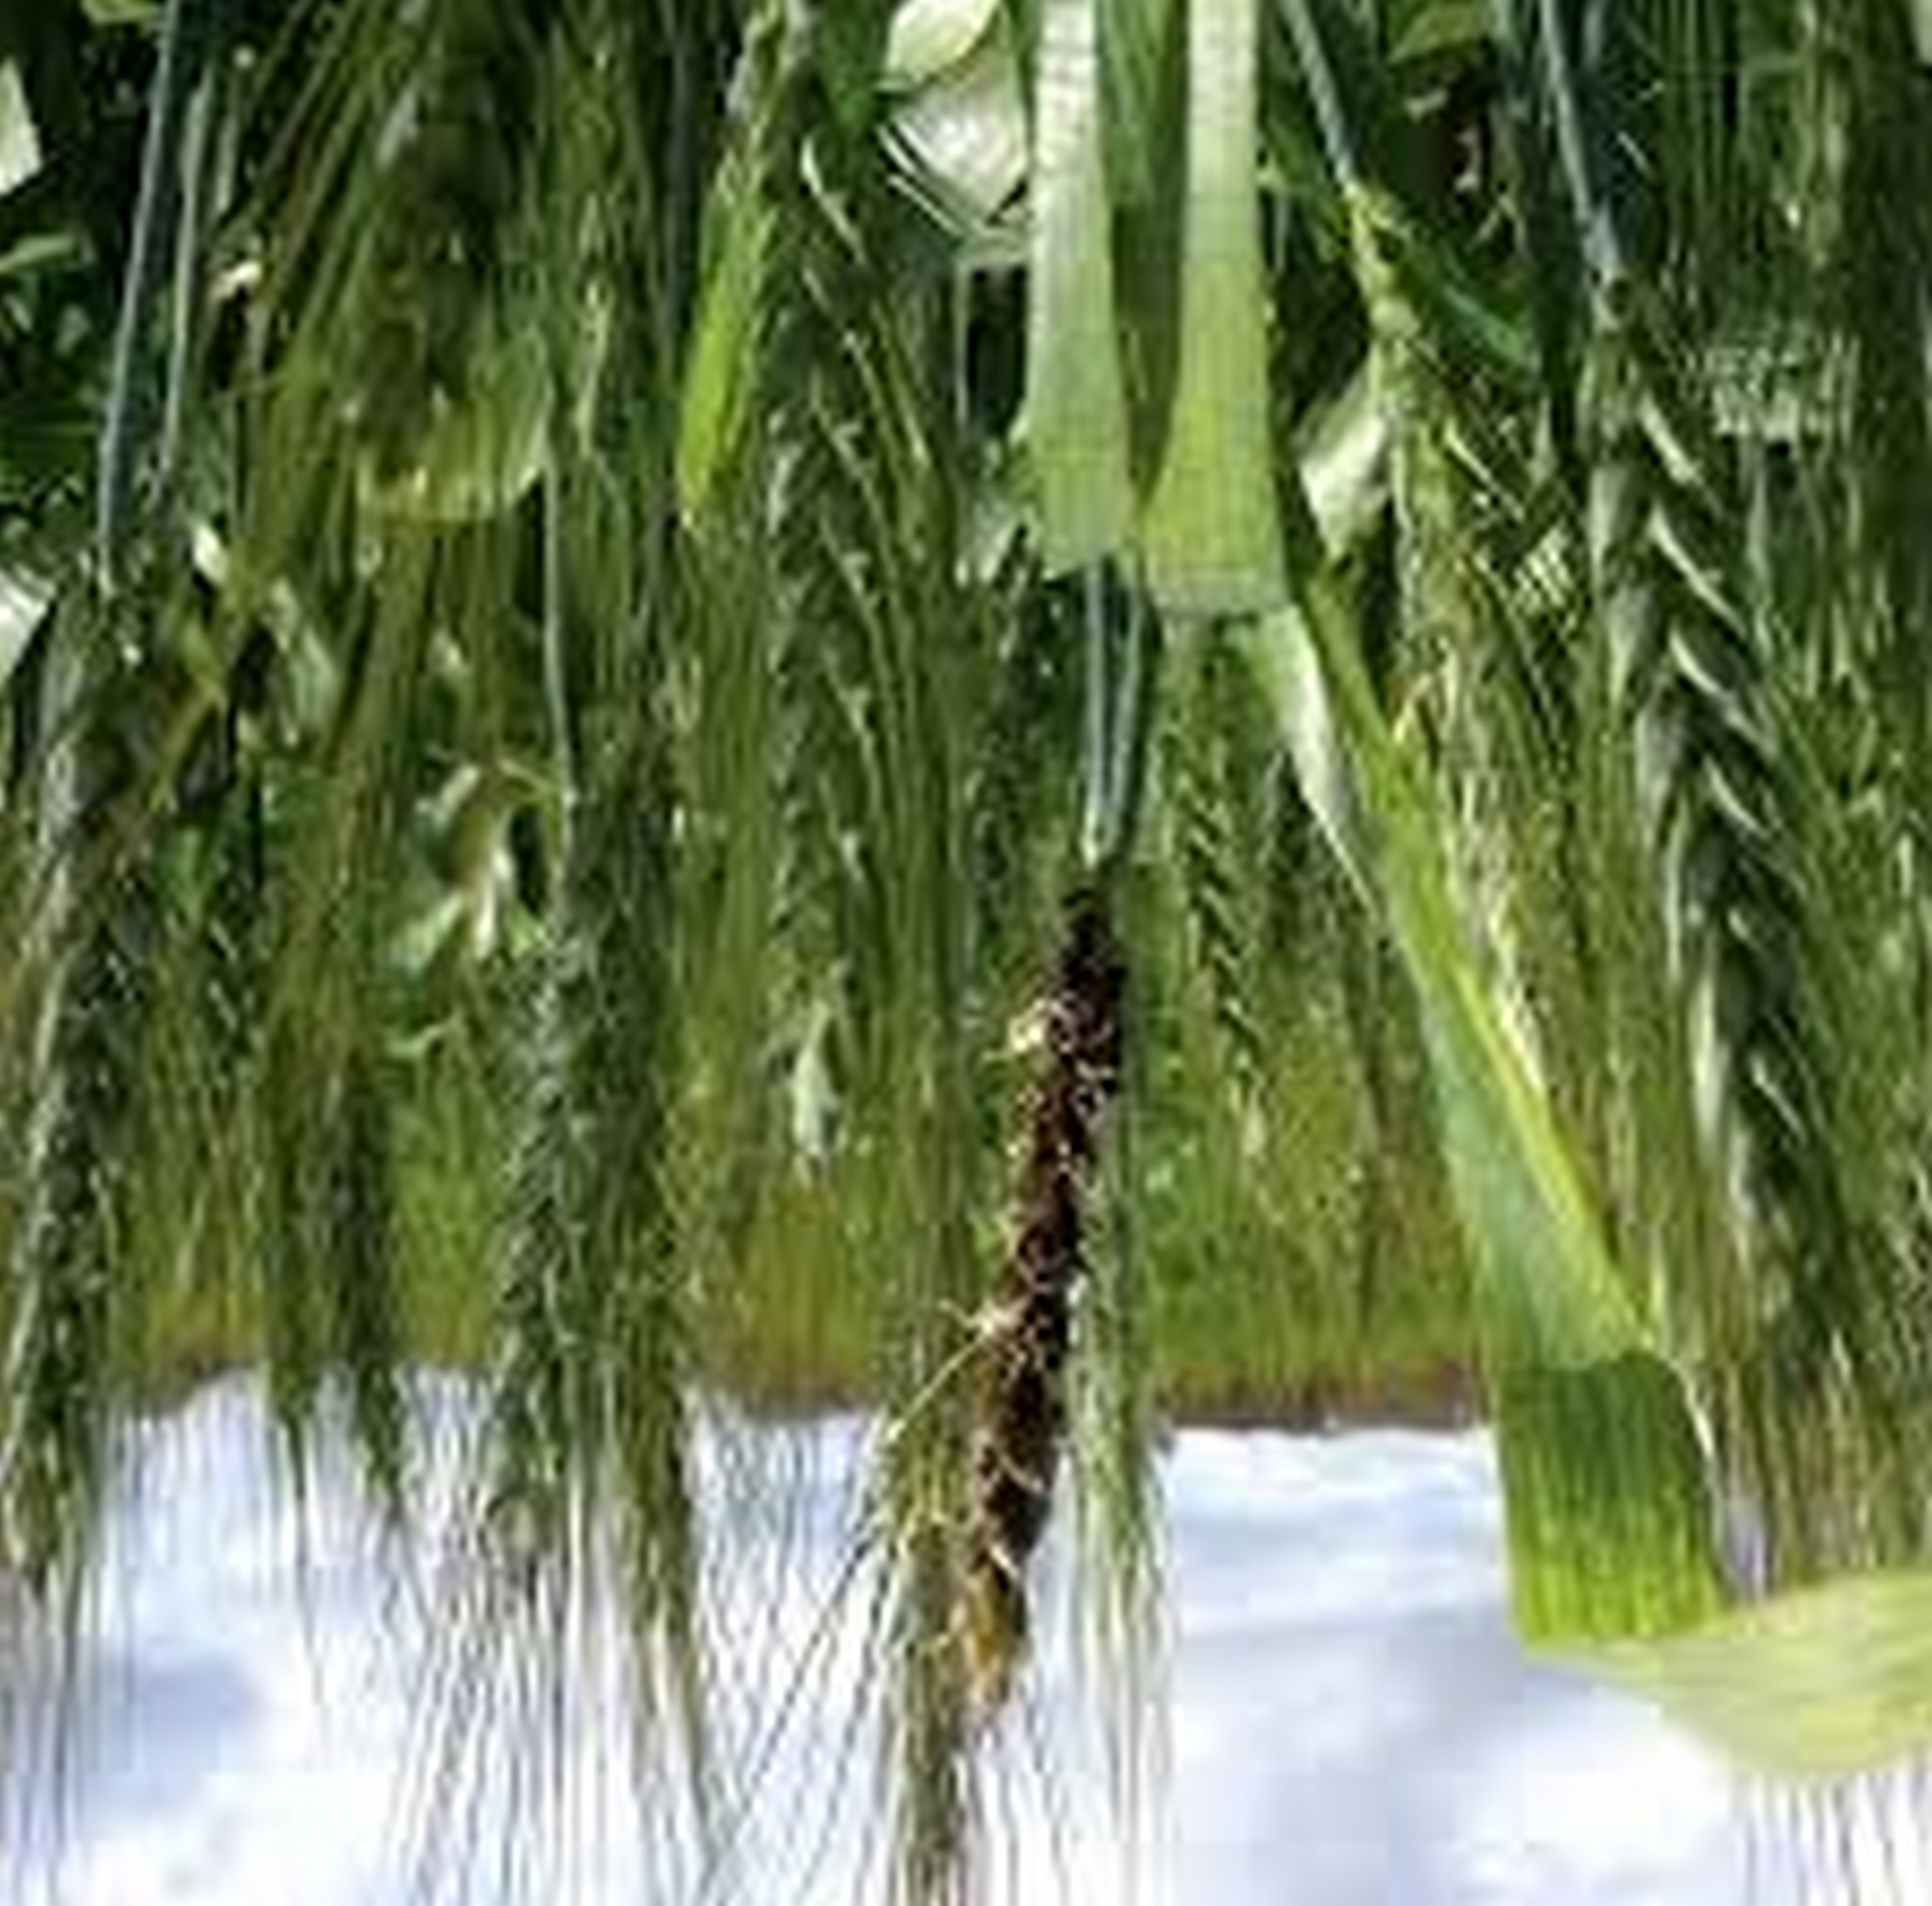Wheat Loose Smut: (920, 897, 1169, 1704)
